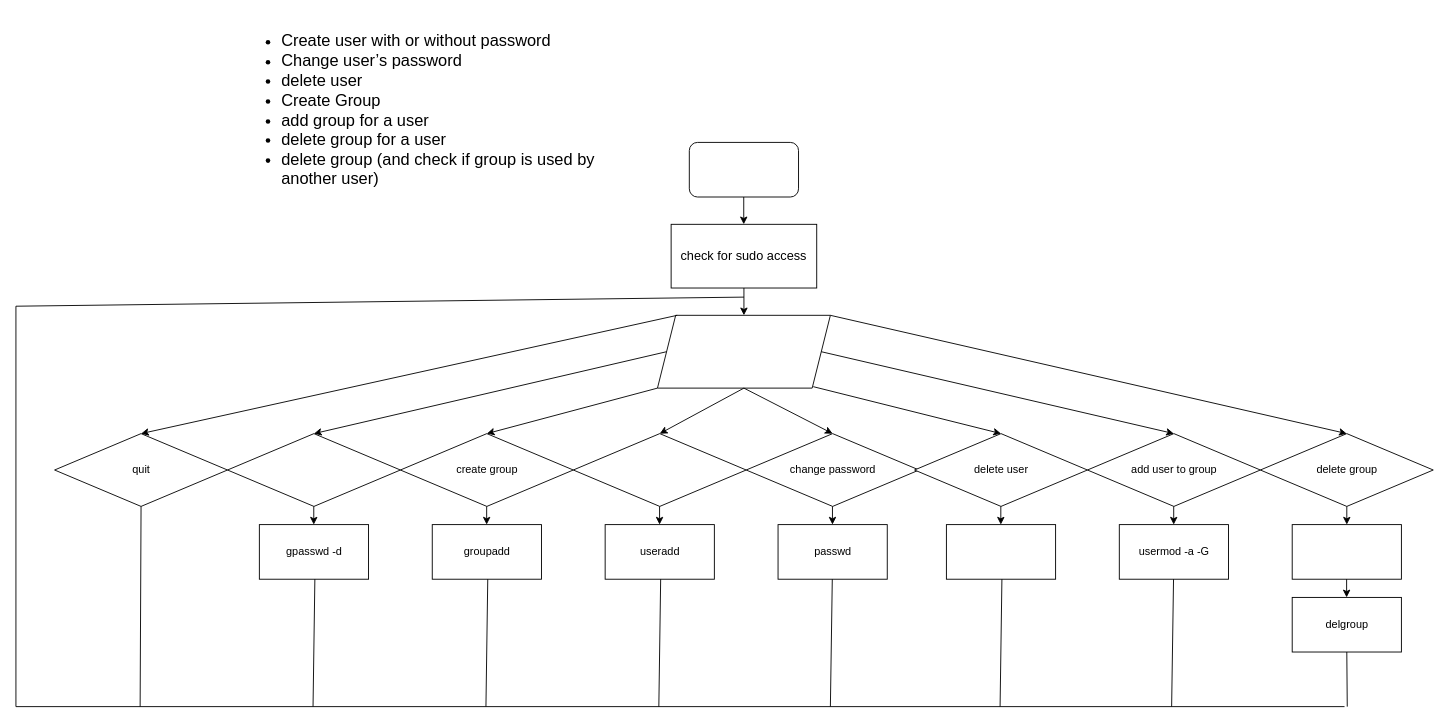
Some shapes in this 1450 by 723 pixel diagram are drawn without their labels. Each missing label, with the centre of its shape:
Ask user for option to do: point 743,351
check if another user is in group: point 1346,551
Create user: point 659,469
delete user from group: point 313,469
deluser: point 1000,551
Entry point: point 743,169
